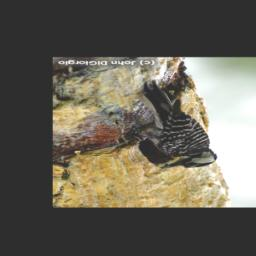Woodpecker: (121, 79, 219, 169)
